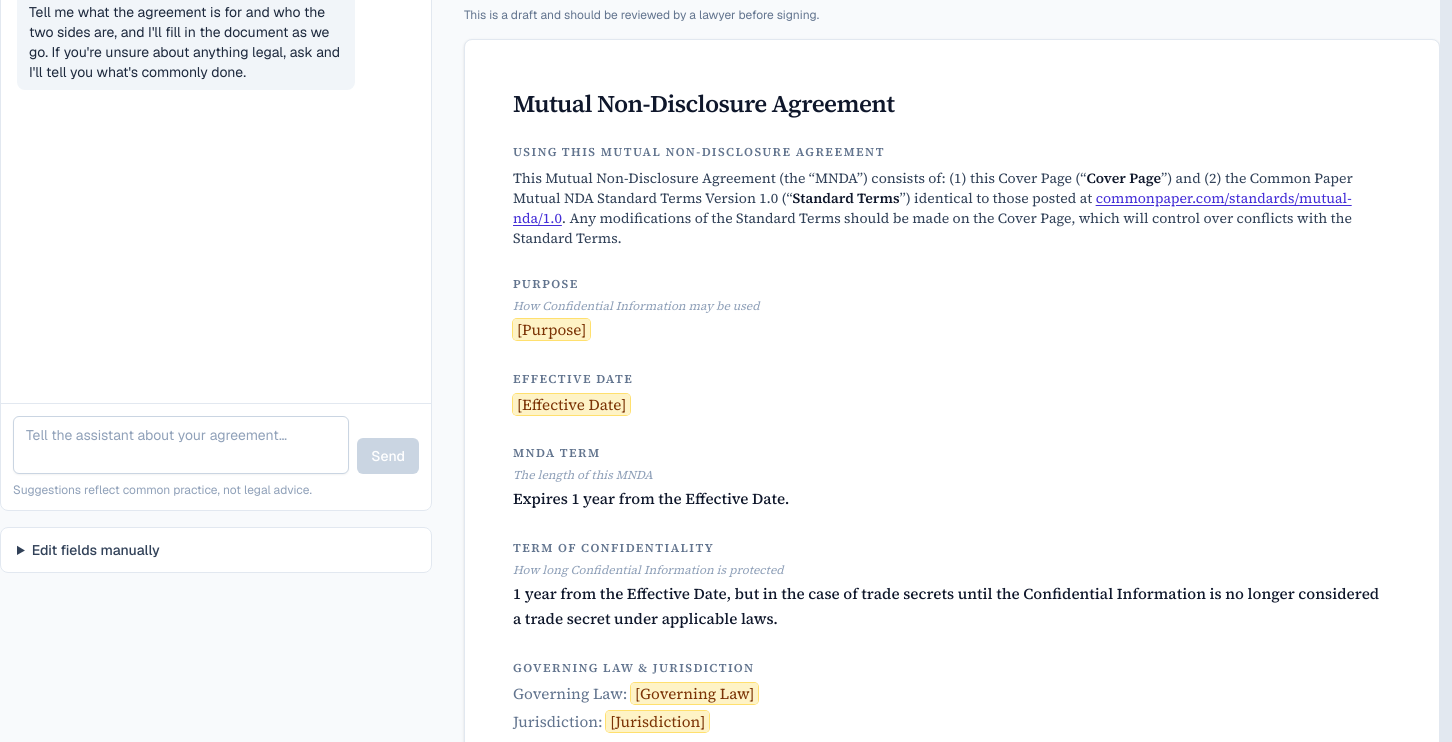
the manual fields disclosure › opens to reveal the cover page form
What coordinates should you click on to do the following:
click the heading "Edit fields manually"
I would click on:
 (96, 550)
Its box is [32, 541, 160, 559].
(page scrolled)
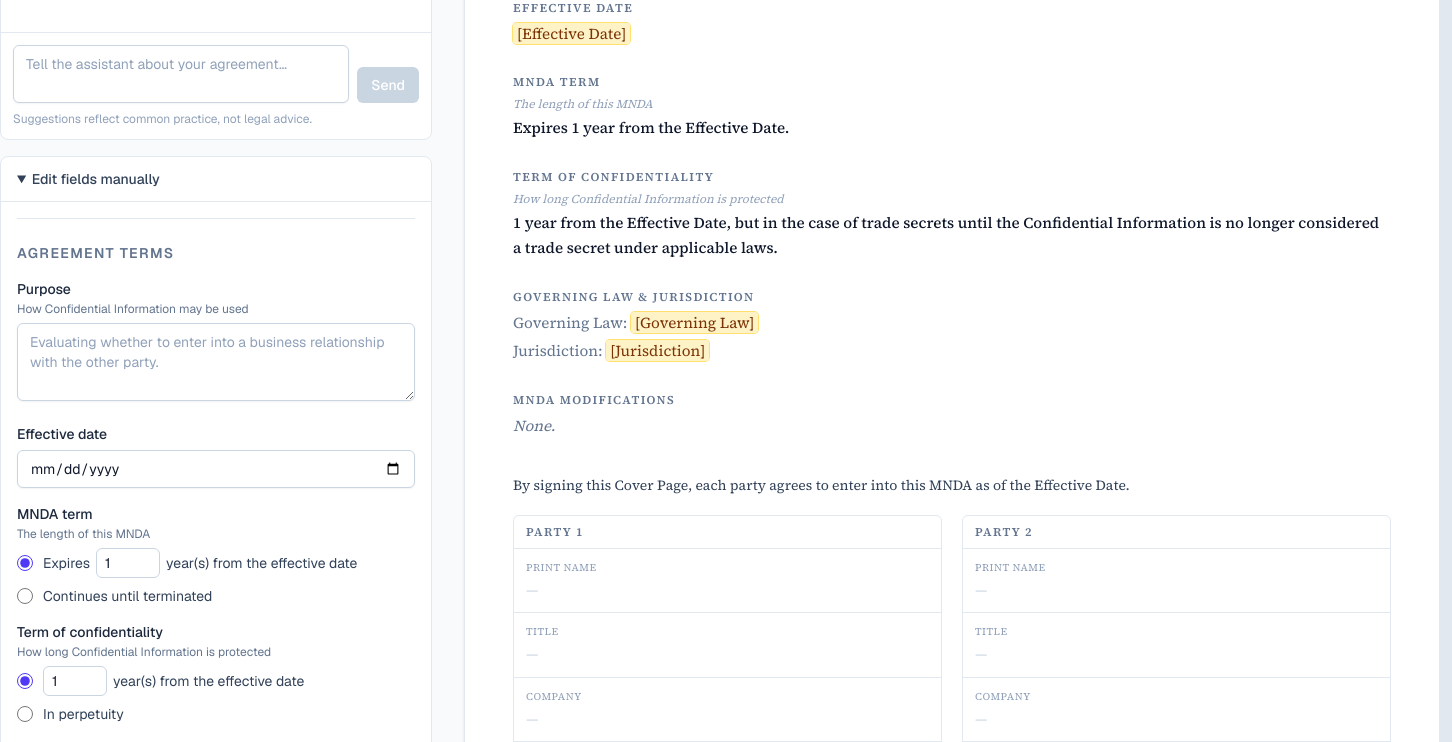
Now the text box labelled "Purpose" is shown, box [17, 323, 415, 401]
